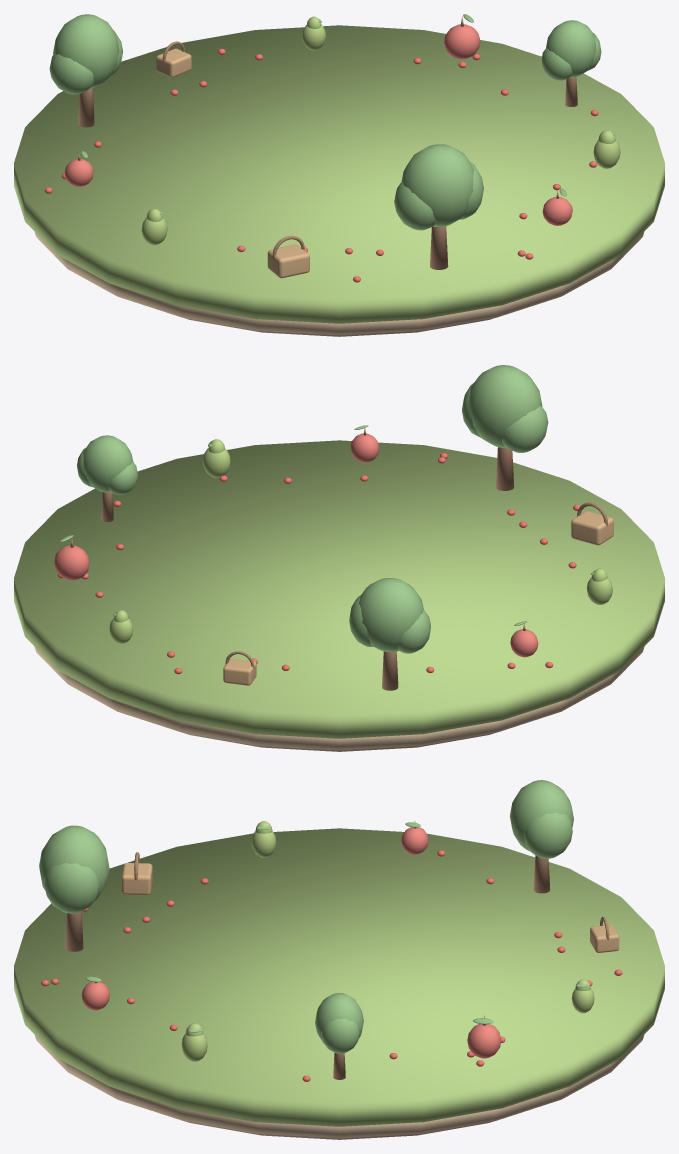
The model's file is world.glb.
3 renders of one model, top to bottom at view 1: azimuth 30°, elevation 25°; view 2: azimuth 150°, elevation 25°; view 3: azimuth 270°, elevation 25°, orthographic.
Visible parts, largest first — view 1: Cone, Cone.001, tree.003, tree.002, tree.001, basket.002, apple.001, basket.001, pear.003, apple.003, pear.002, apple.002 (+2 smaller); view 2: Cone, Cone.001, tree.003, tree.002, tree.001, basket.002, apple.001, basket.001, pear.003, pear.002, apple.003, apple.002 (+1 smaller); view 3: Cone, Cone.001, tree.003, tree.002, tree.001, apple.001, basket.002, basket.001, pear.003, apple.003, pear.002, apple.002 (+2 smaller).
Part boxes in pixels (x1,y1,x2,y2): Cone: (14,25,664,323); Cone.001: (34,231,644,335); tree.003: (394,144,483,269); tree.002: (49,14,122,127); tree.001: (541,20,601,106); basket.002: (267,235,309,278); apple.001: (444,14,480,59); basket.001: (156,41,191,77); pear.003: (593,130,620,168); apple.003: (542,188,572,225); pear.002: (141,208,167,245); apple.002: (64,151,93,186); Cone: (14,440,664,738); Cone.001: (34,647,644,750); tree.003: (462,365,548,490); tree.002: (349,578,430,690); tree.001: (77,435,137,522); basket.002: (571,502,613,545); apple.001: (54,535,89,580); basket.001: (223,651,256,685); pear.003: (203,439,230,477); pear.002: (586,568,612,604); apple.003: (350,425,379,462); apple.002: (510,621,538,657); Cone: (14,828,664,1126); Cone.001: (34,1034,644,1138); tree.003: (39,825,109,951); tree.002: (510,780,573,893); tree.001: (315,993,363,1079); apple.001: (467,1015,501,1058); basket.002: (121,852,152,895); basket.001: (590,917,619,952); pear.003: (181,1023,207,1061); apple.003: (81,974,109,1010); pear.002: (251,821,276,857); apple.002: (401,821,428,854).
Bounding box in the file's own units: 9.6 × 2.74 × 9.6.
